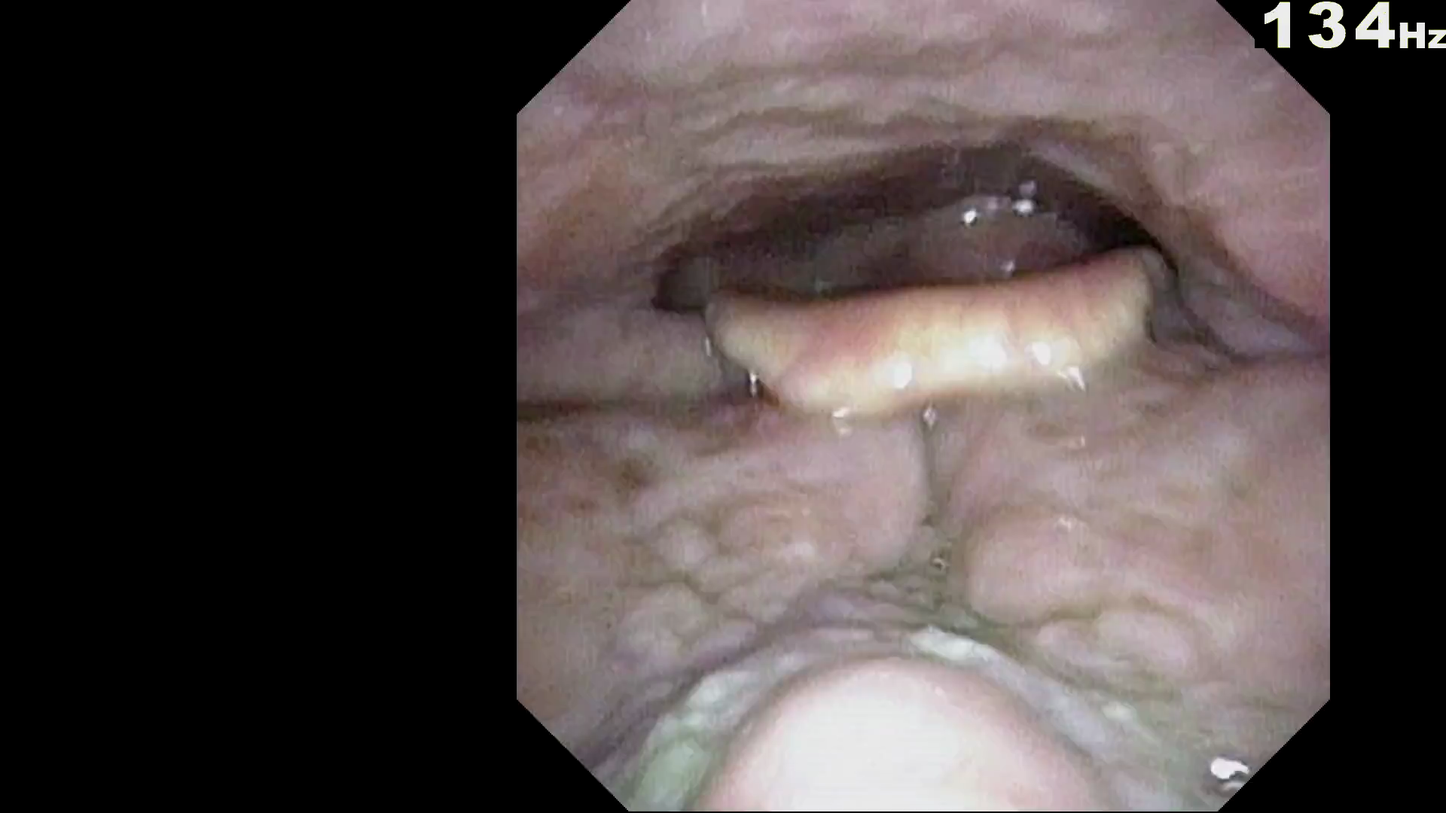epiglottis: (694, 348, 1258, 527)
